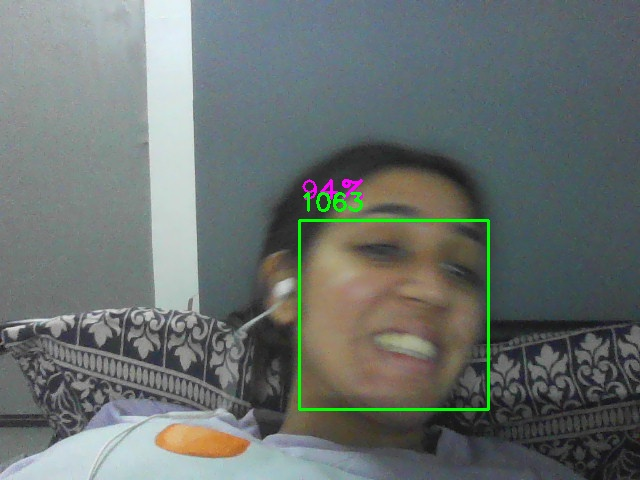real: (299, 220, 489, 410)
